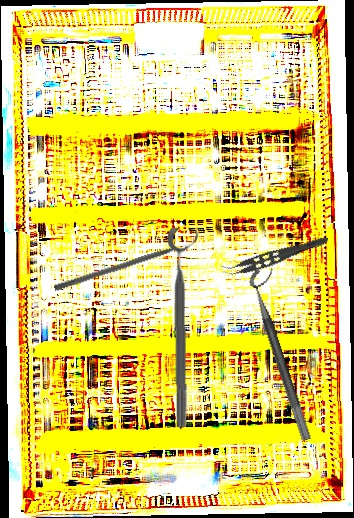Fixation Ring: (246, 264, 326, 442), (167, 227, 204, 427)
Pusher: (53, 239, 197, 293)
Tissue Forceps: (220, 226, 330, 283)
